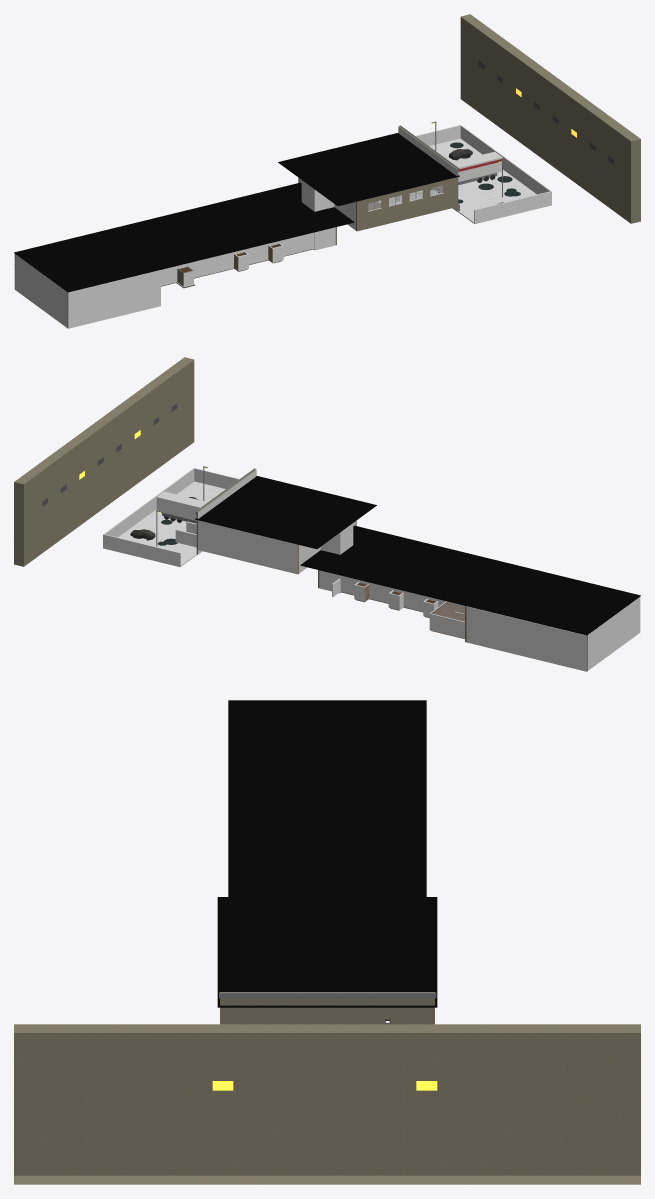
3 views of the same model, one above another, from view 1: azimuth 30°, elevation 25°; view 2: azimuth 150°, elevation 25°; view 3: azimuth 270°, elevation 25° (orthographic). The views are drawn at different scales.
Parts seen in each view (by area): view 1: S_occluder, S_concrete_wall, COL, S_white_plastic, S_glass_dusty; view 2: S_occluder, COL, S_concrete_wall; view 3: S_concrete_wall, S_occluder, S_steel_dark.
Boxes of the visible parts, left/top/right/bottom form: S_occluder: left=14, top=133, right=459, bottom=292; S_concrete_wall: left=14, top=14, right=640, bottom=327; COL: left=14, top=125, right=551, bottom=328; S_white_plastic: left=451, top=151, right=502, bottom=181; S_glass_dusty: left=368, top=185, right=443, bottom=210; S_occluder: left=195, top=476, right=640, bottom=635; COL: left=103, top=468, right=640, bottom=671; S_concrete_wall: left=14, top=357, right=587, bottom=671; S_concrete_wall: left=14, top=992, right=640, bottom=1184; S_occluder: left=217, top=700, right=437, bottom=1007; S_steel_dark: left=219, top=992, right=436, bottom=998.
Size of what is drawn, in the model's own units: 104 by 21.1 by 59.99.
Materials: 71 (26 with a texture image).
